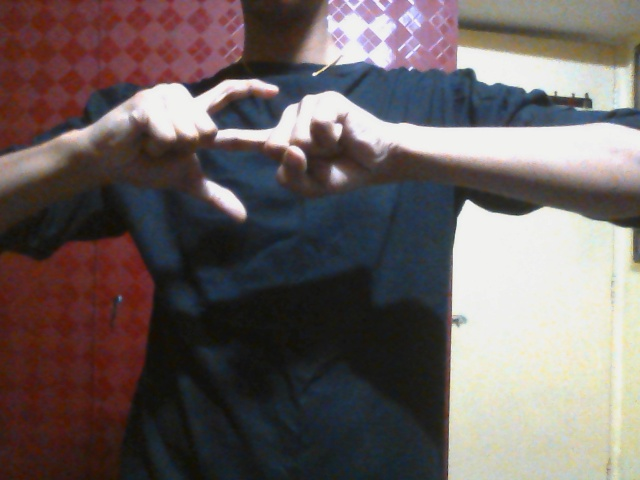E: (113, 78, 407, 230)
